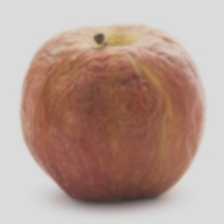apple: (36, 12, 176, 185)
